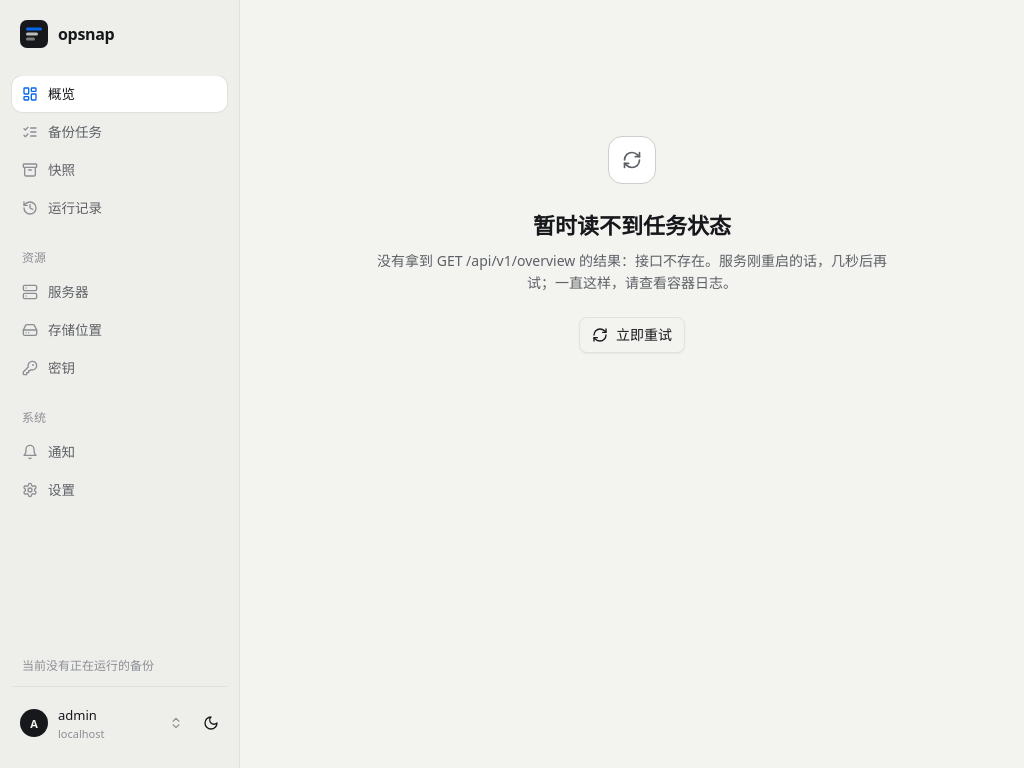
Test: 面板外壳 › 修改密码时新密码少于 8 位就地提示
Click the button with aria-label "账号菜单" at {"x": 102, "y": 723}, box [12,699,191,748]
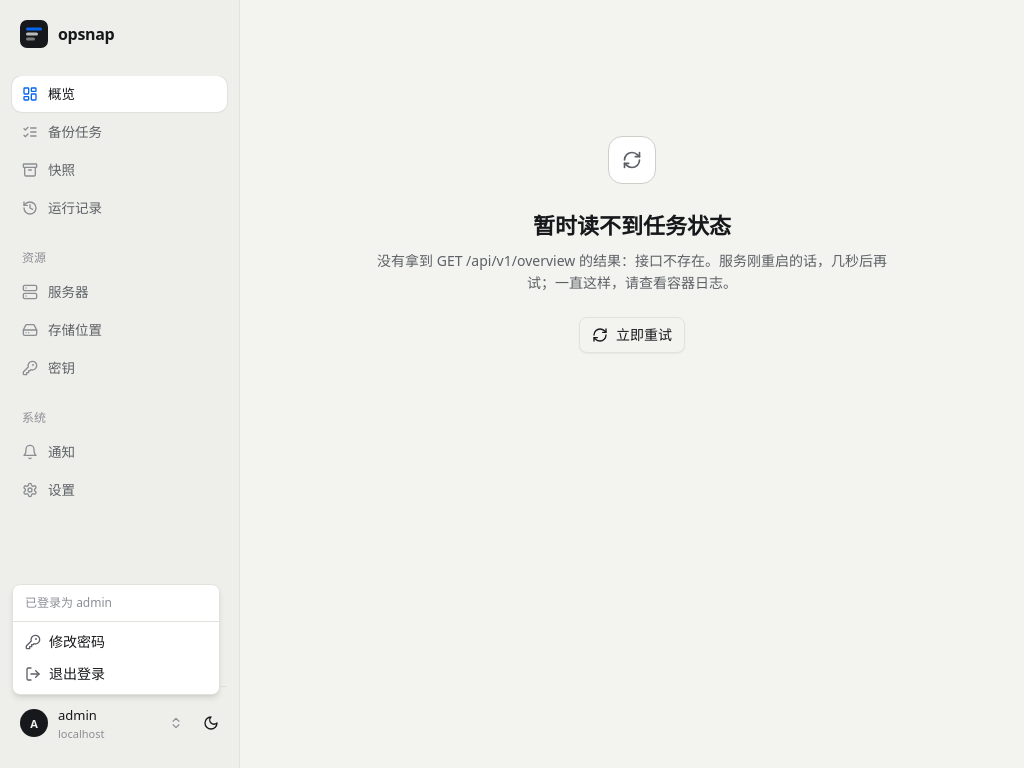
Click the menu item "修改密码" at {"x": 65, "y": 642}, box [25,632,105,651]
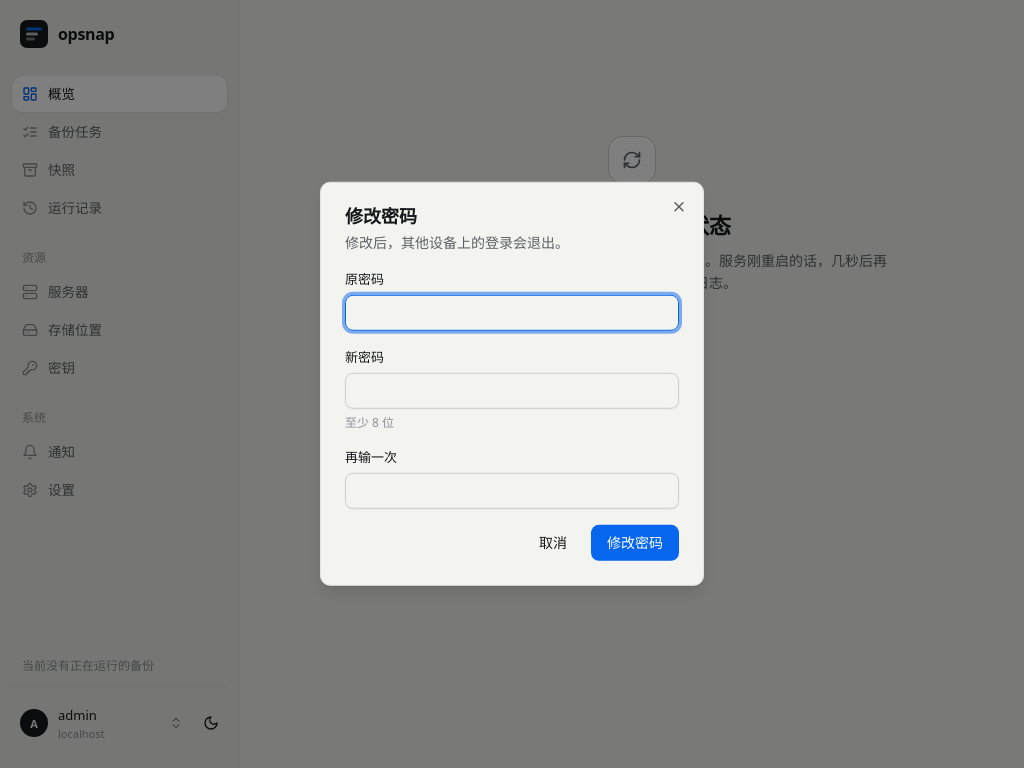
Type "correct-horse" into the password field labelled "原密码" at {"x": 512, "y": 313}, box [345,295,679,331]
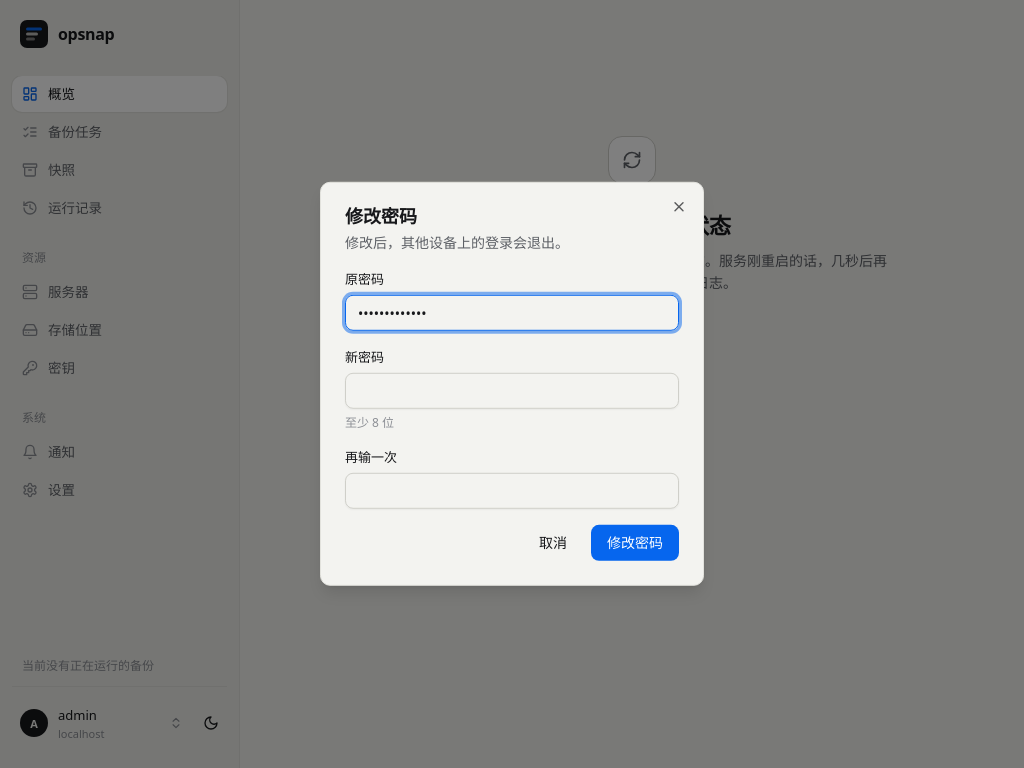
Type "short" into the password field labelled "新密码" at {"x": 512, "y": 391}, box [345,373,679,409]
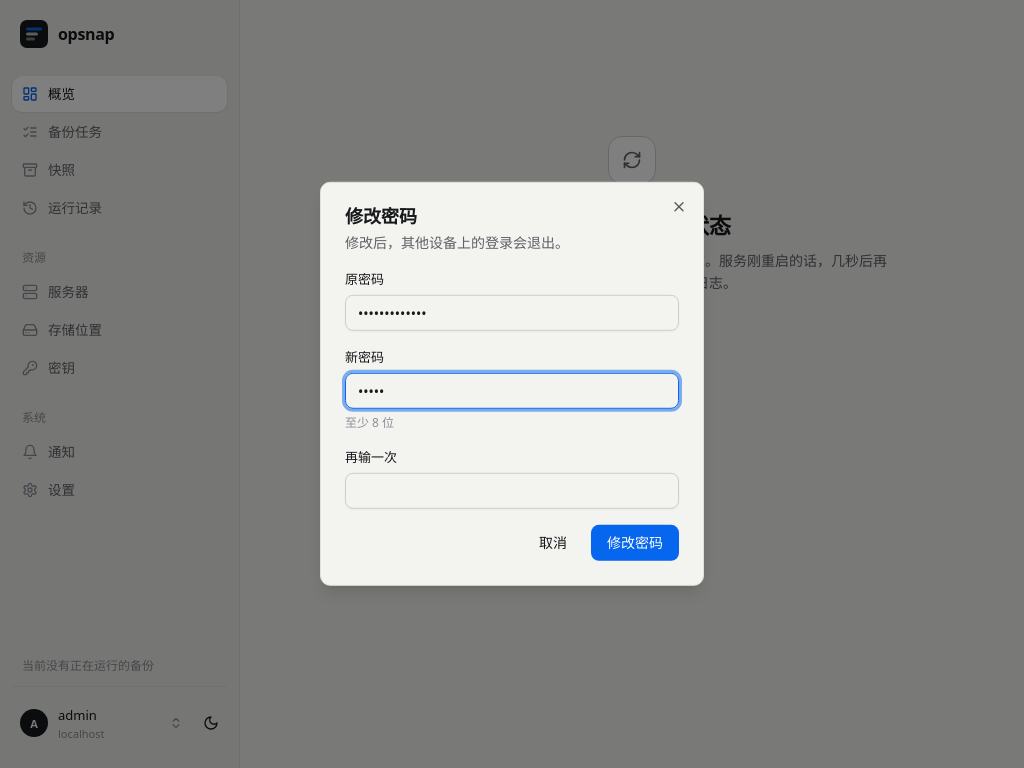
Type "short" into the password field labelled "再输一次" at {"x": 512, "y": 491}, box [345,473,679,509]
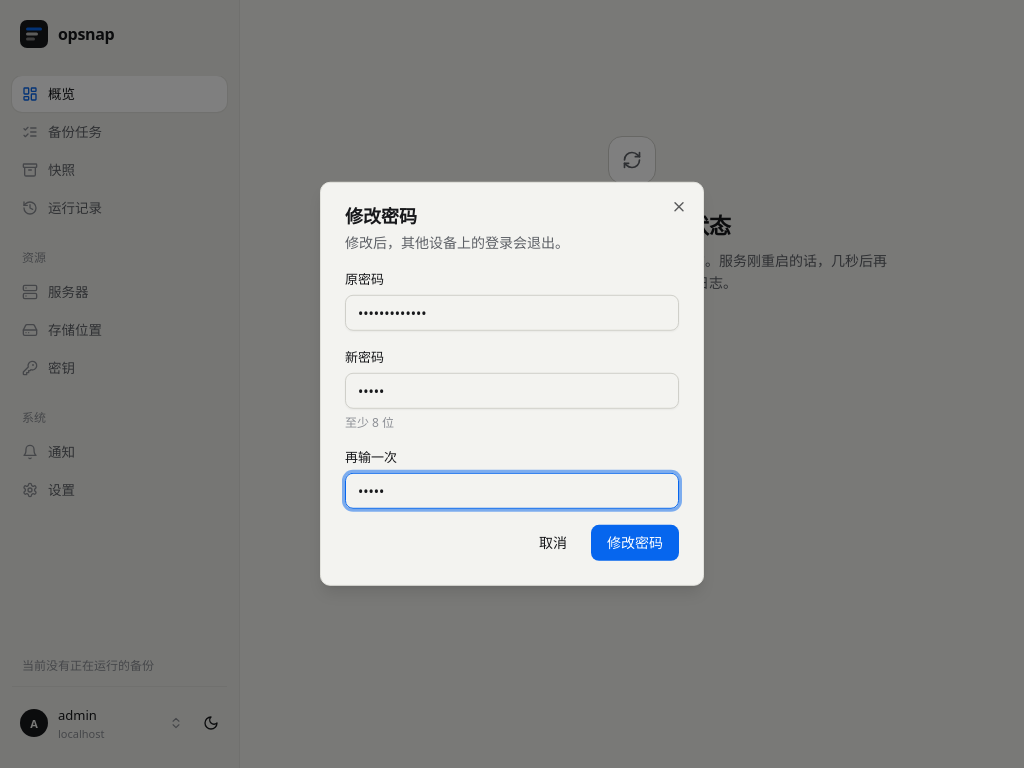
Click the button "修改密码" at {"x": 635, "y": 543}, box [591,525,679,561]
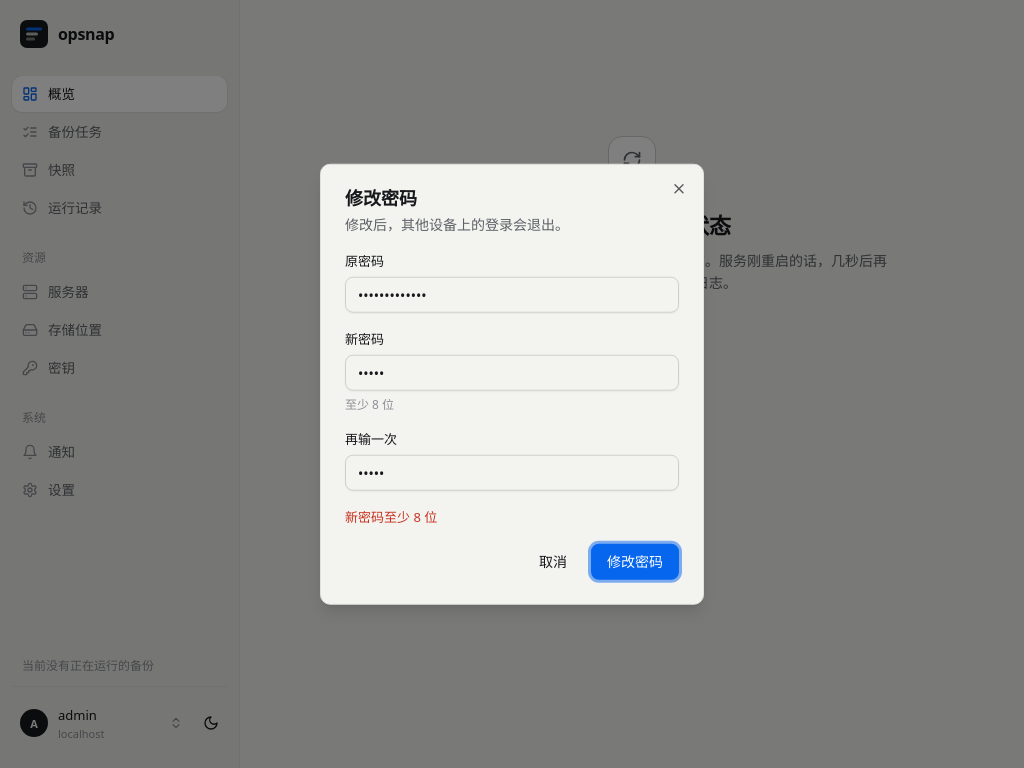
Result: the message reads "新密码至少 8 位" at [345,508,437,526]
